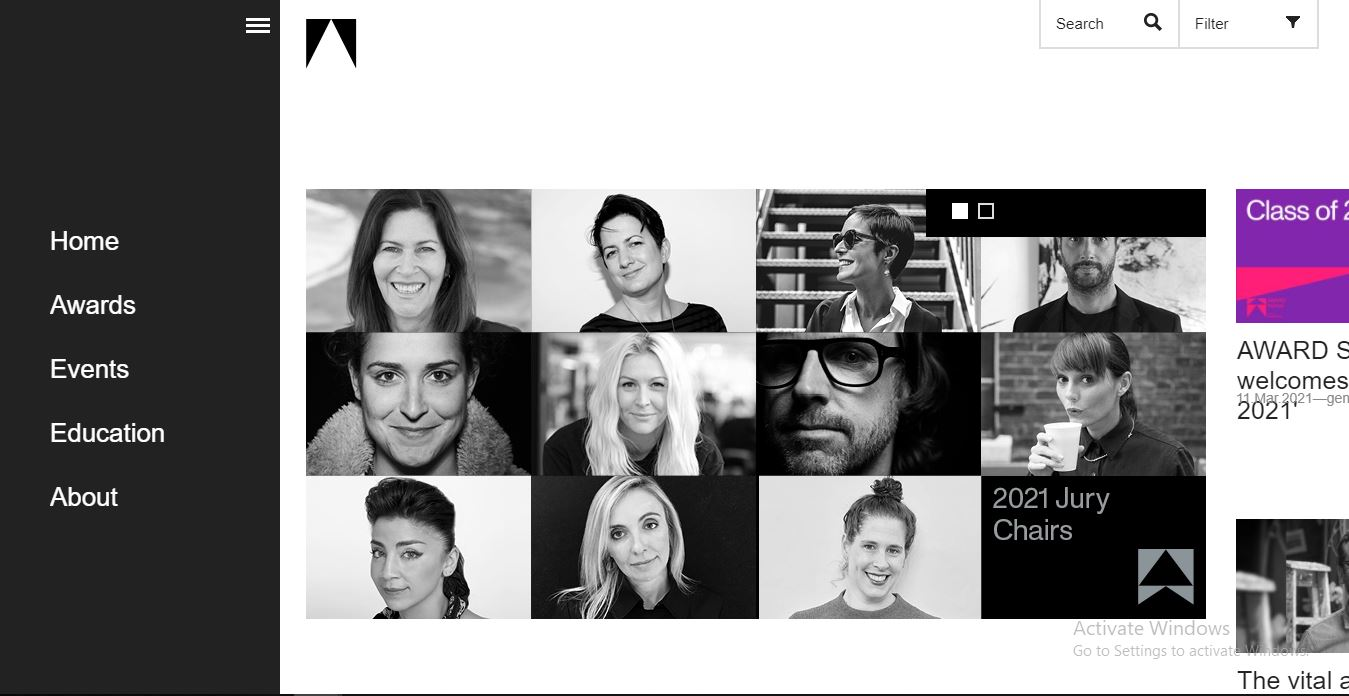Nav Bar: (1039, 0, 1315, 52)
Side Bar: (0, 0, 279, 696)
